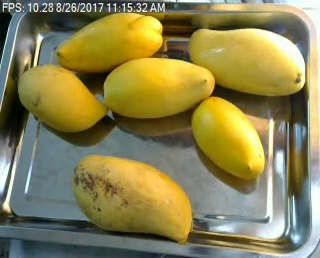Mango: (71, 153, 193, 245), (187, 28, 304, 94), (102, 58, 216, 116), (56, 13, 165, 70), (17, 64, 108, 130), (192, 96, 262, 177)
